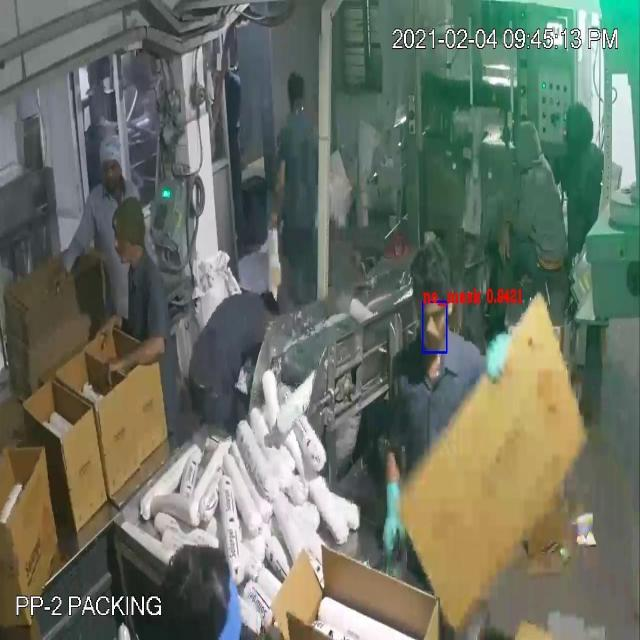No_Gloves: (22, 44, 394, 513)
